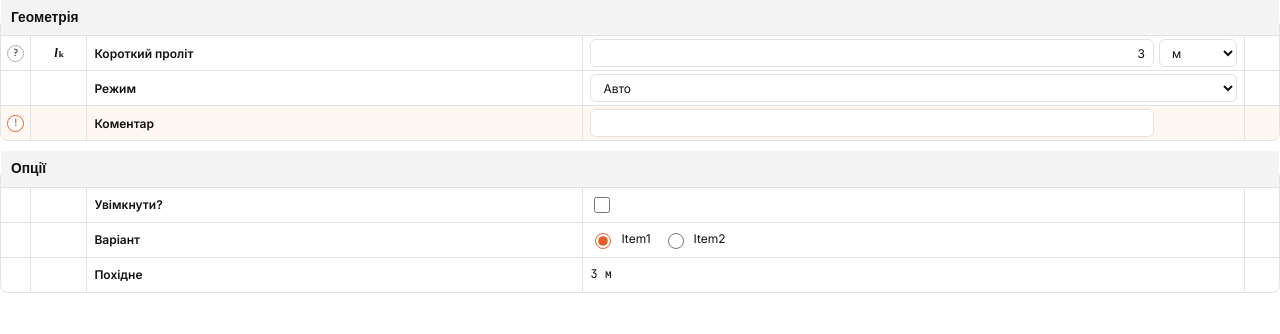
Test case: InputSchemaForm › closes inline details when the active action is clicked again
Click the button named "Показати опис поля Короткий проліт".
click(16, 53)  # box [7,45,24,62]
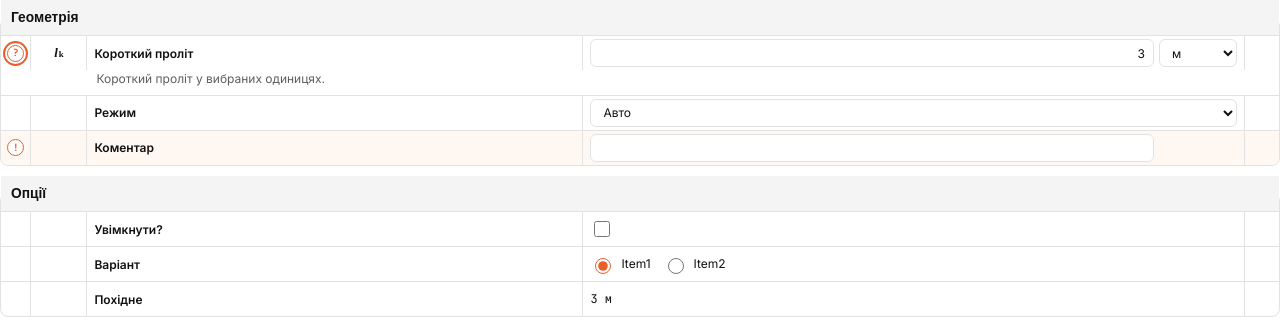
Check: the text "Короткий проліт у вибраних одиницях." is shown, box [96,71,325,86]
Click the button named "Показати опис поля Короткий проліт".
click(16, 53)  # box [7,45,24,62]
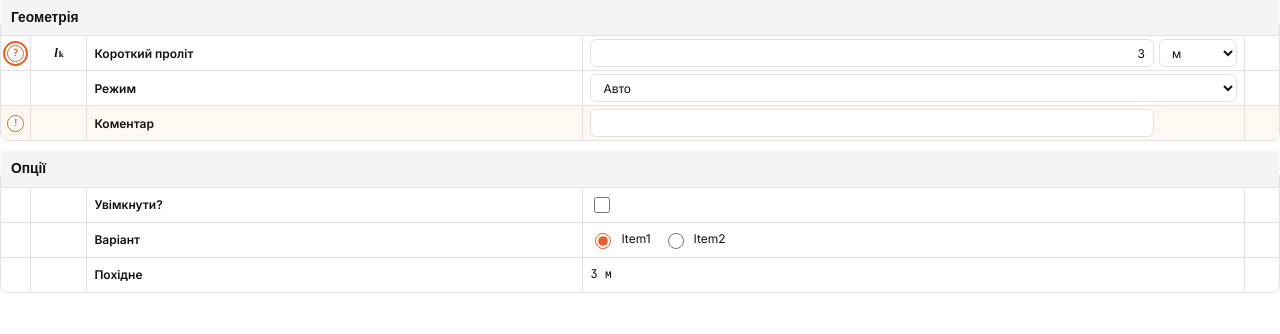
Check: the text "Короткий проліт у вибраних одиницях." is gone
